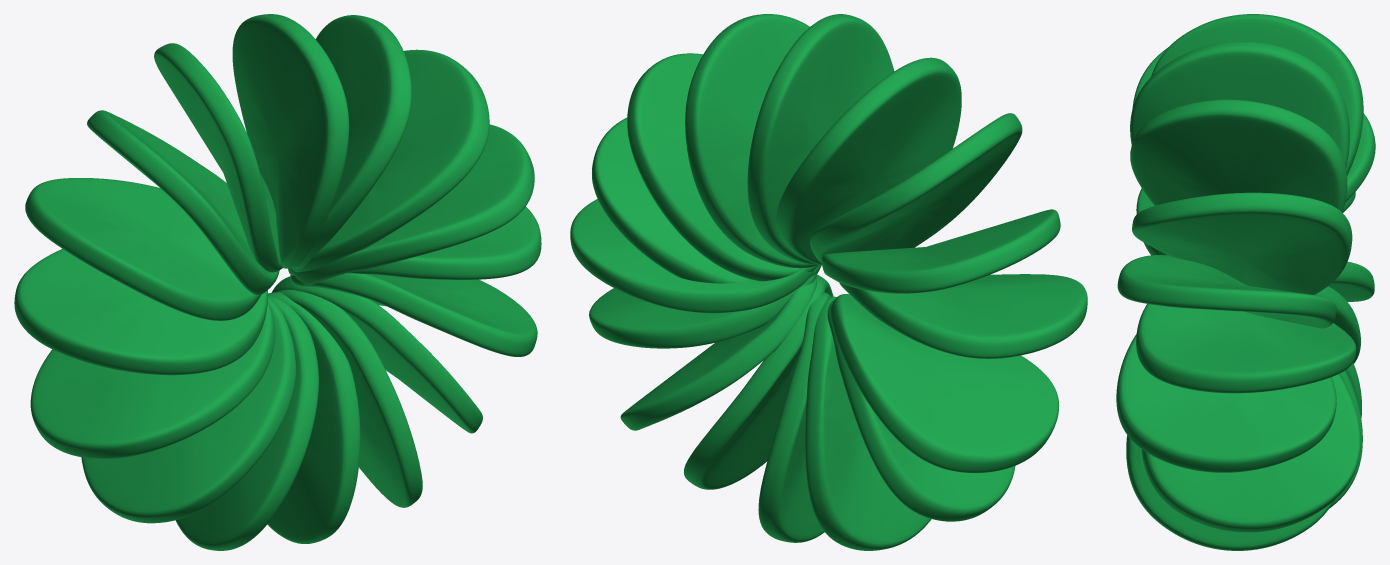
3 views of the same model, side by side, from view 1: azimuth 30°, elevation 25°; view 2: azimuth 150°, elevation 25°; view 3: azimuth 270°, elevation 25° (orthographic). The views are drawn at different scales.
Visible parts, largest first — view 1: shape2; view 2: shape2; view 3: shape2.
Boxes of the visible parts, box(x1,y1,x2,y2) form: shape2: box(14, 14, 541, 550); shape2: box(570, 14, 1087, 550); shape2: box(1116, 14, 1375, 550).
Bounding box in the file's own units: 3.94 × 3.94 × 1.9.
